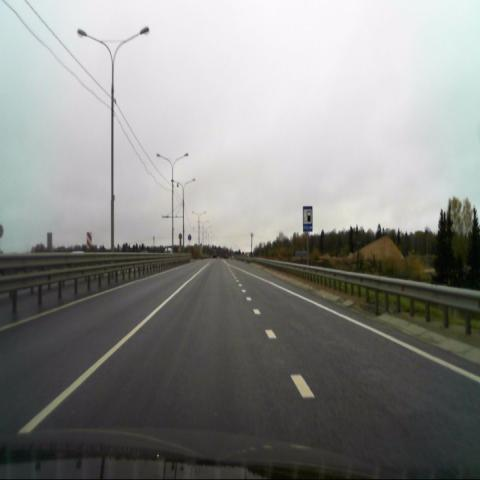7_3: (303, 207, 312, 232)
